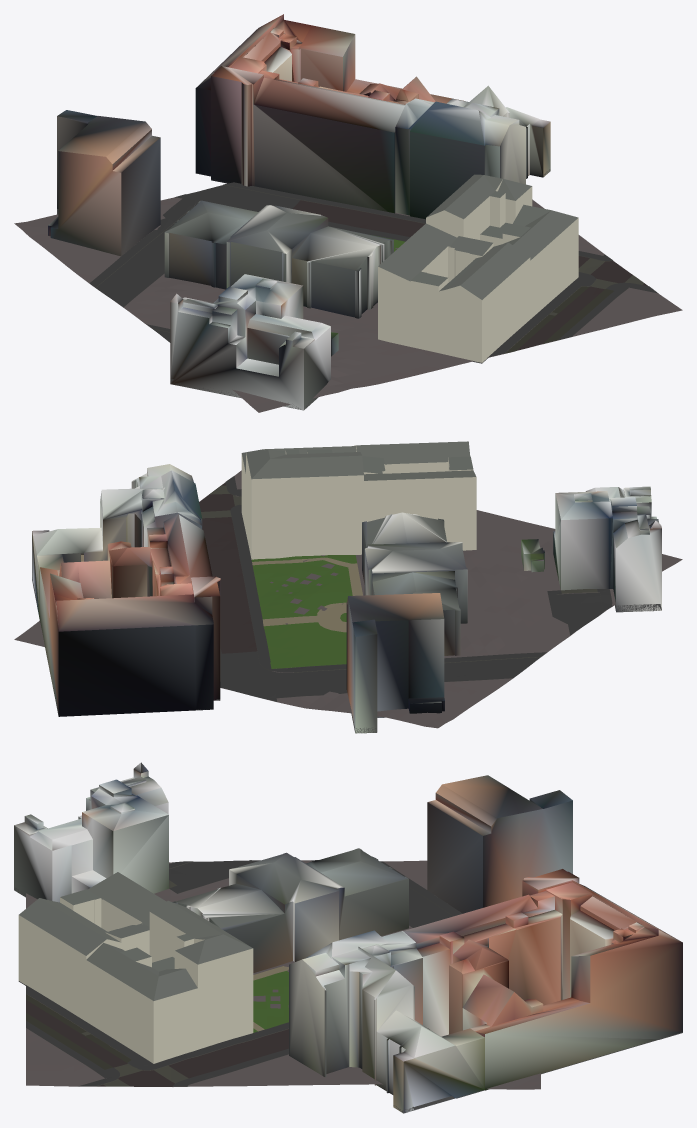
The picture shows the model from 3 angles, top to bottom: view 1: azimuth 30°, elevation 25°; view 2: azimuth 150°, elevation 25°; view 3: azimuth 270°, elevation 25°; orthographic projection. The views are drawn at different scales.
Visible parts, largest first — view 1: c_m08_p01; view 2: c_m08_p01; view 3: c_m08_p01.
Boxes of the visible parts, x1,y1,x2,y2 form: c_m08_p01: [14, 14, 682, 412]; c_m08_p01: [14, 441, 682, 733]; c_m08_p01: [14, 762, 682, 1113].
Bounding box in the file's own units: 152 × 32.41 × 166.
